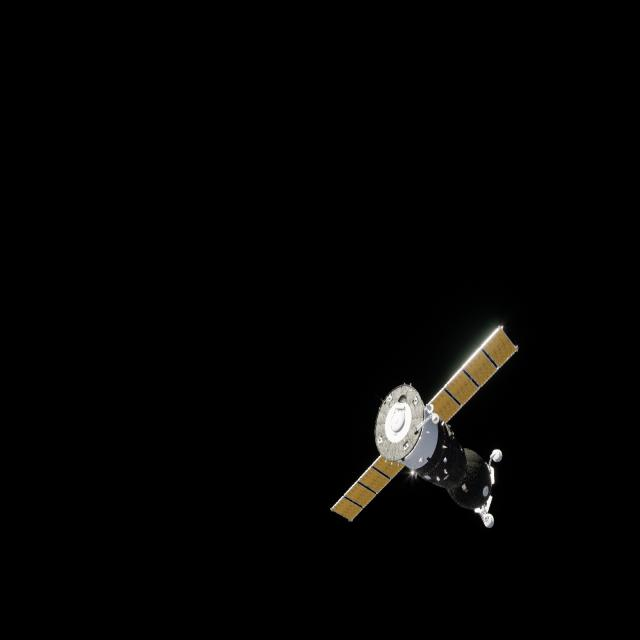Satellites revolving around earth: (328, 322, 520, 531)
